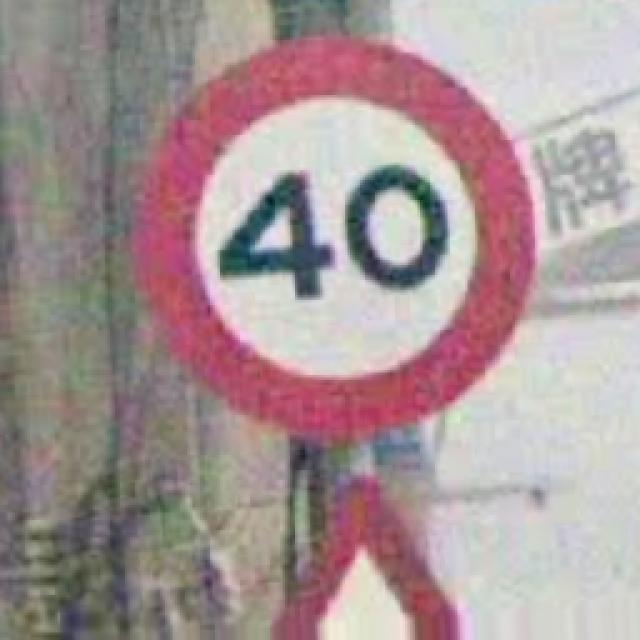Speed Limit -40-: (132, 38, 532, 440)
